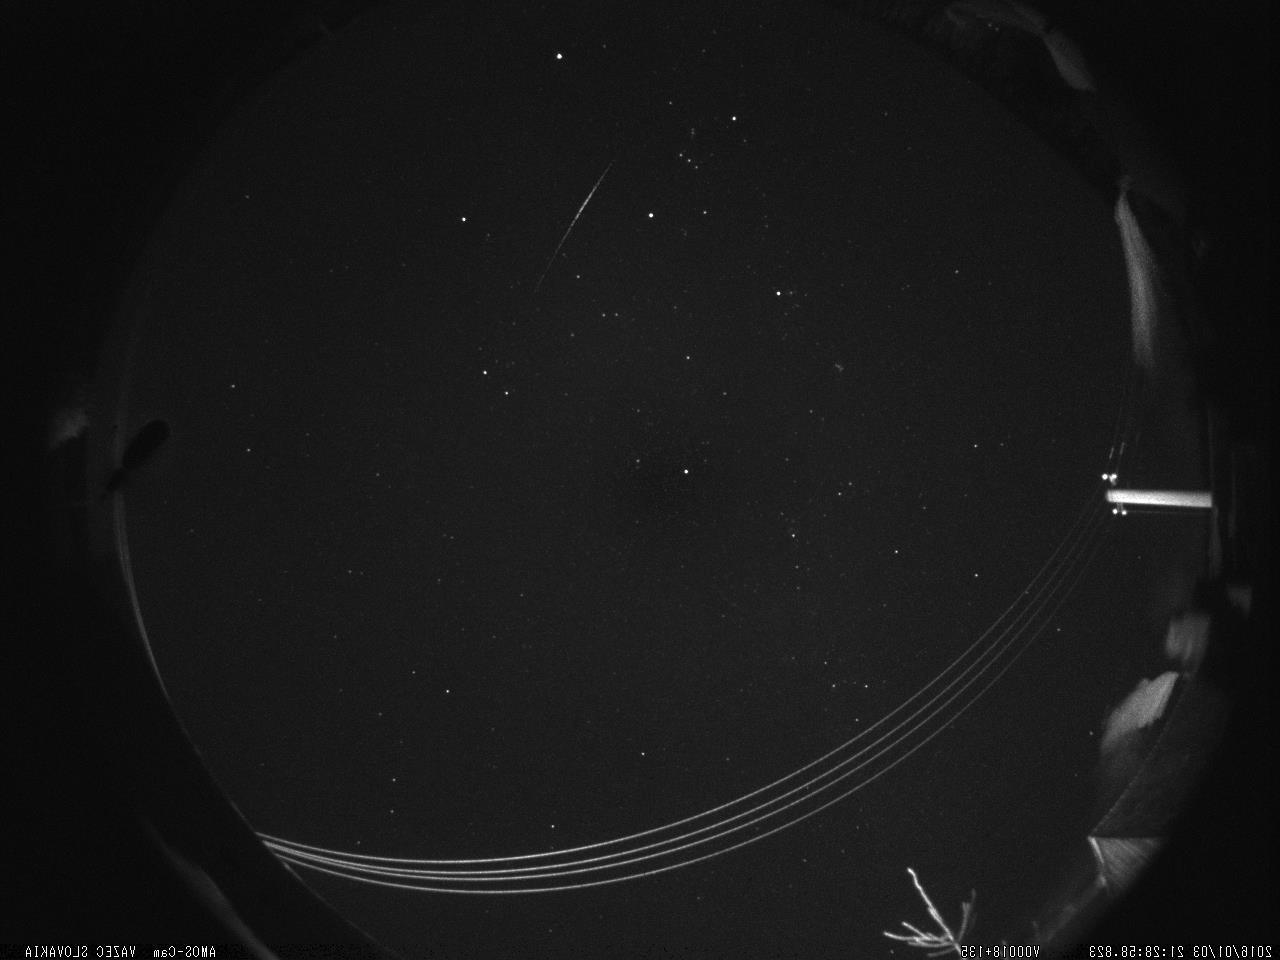meteor: (523, 151, 631, 302)
